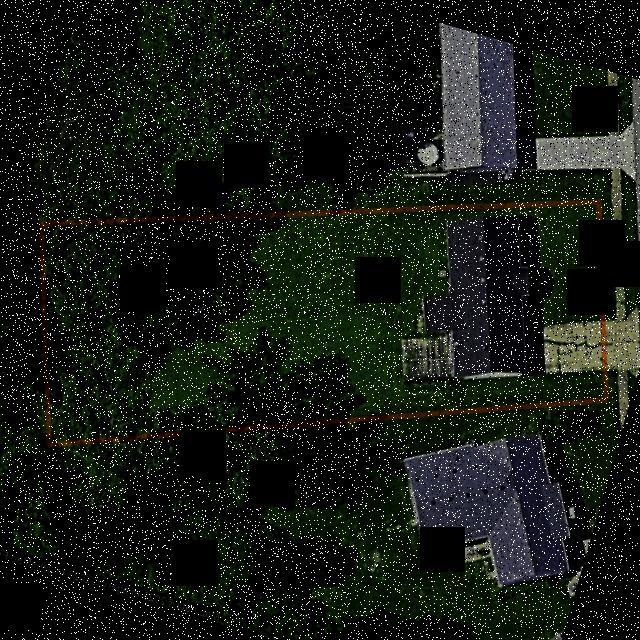Driveway: (525, 319, 599, 373)
Extra Driveway: (611, 306, 635, 374)
Extra Lawn: (616, 200, 639, 312)
Extra Sidewalk: (606, 198, 625, 317)
House: (422, 216, 530, 380)
Other: (401, 334, 453, 378)
